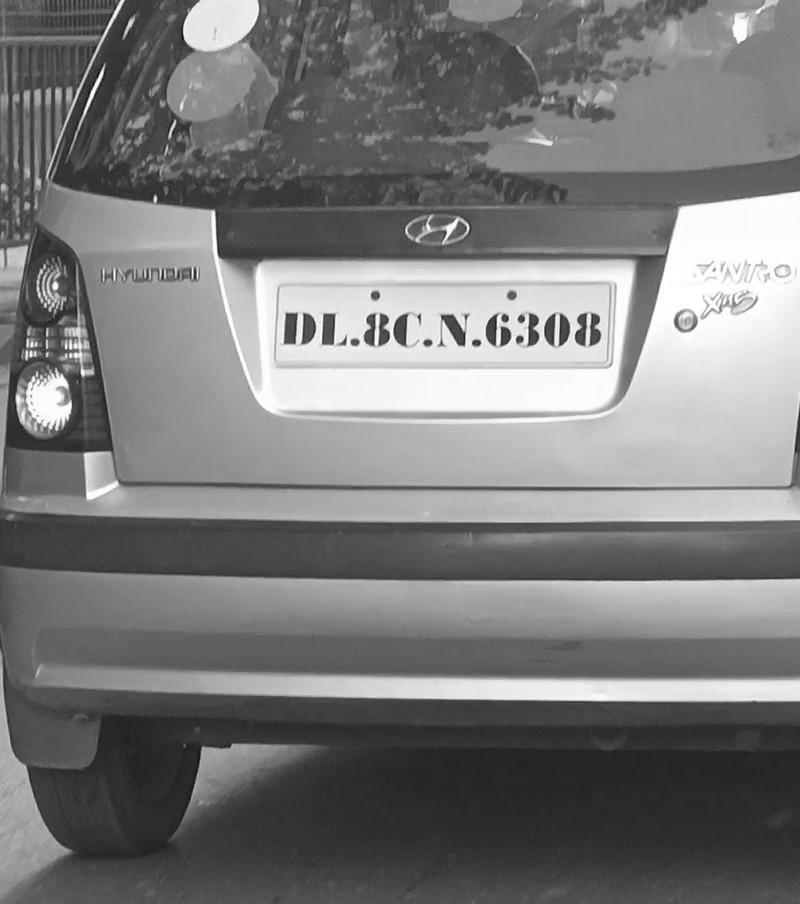number_plate: (281, 289, 603, 366)
